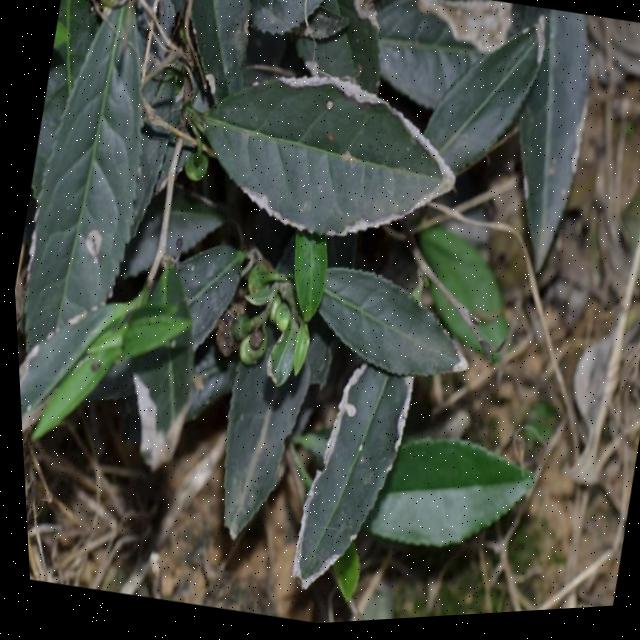Tea cloud leaf blight: (240, 62, 475, 272)
